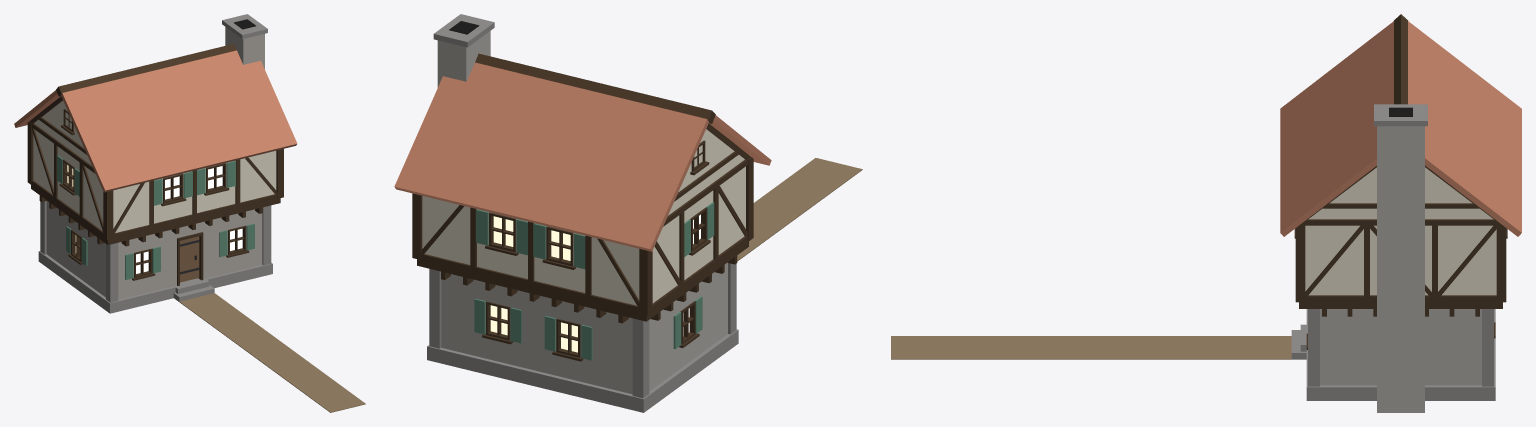
Rendered from medievalHouse.fbx.
3 views of the same model, side by side, from view 1: azimuth 30°, elevation 25°; view 2: azimuth 150°, elevation 25°; view 3: azimuth 270°, elevation 25° (orthographic). The views are drawn at different scales.
Parts seen in each view (by area): view 1: RoofSlab_S, Path, Foundation, U_Front_end, U_Front_seg0, RoofRidge, Slab_Front, G_Front_seg2, G_Left_end, G_Front_seg1, G_Left_seg0, U_Left_end (+19 smaller); view 2: RoofSlab_N, Foundation, Path, G_Back_seg0, G_Back_end, U_Back_end, U_Back_seg0, G_Back_seg1, RoofRidge, G_Left_seg0, G_Left_end, U_Left_seg0 (+26 smaller); view 3: RoofSlab_N, RoofSlab_S, Chimney, Path, G_Right_end, U_Right_end, GablePrism, Foundation, RoofRidge, ChimneyCap, T_Right_railT, Quoin_1_-1 (+6 smaller).
Boxes of the visible parts, x1=… form: RoofSlab_S: x1=61, y1=50, x2=297, y2=192; Path: x1=179, y1=293, x2=365, y2=412; Foundation: x1=38, y1=251, x2=272, y2=313; U_Front_end: x1=225, y1=151, x2=276, y2=205; U_Front_seg0: x1=113, y1=178, x2=162, y2=232; RoofRidge: x1=56, y1=44, x2=236, y2=96; Slab_Front: x1=70, y1=198, x2=280, y2=244; G_Front_seg2: x1=202, y1=217, x2=227, y2=278; G_Left_end: x1=46, y1=201, x2=72, y2=272; G_Front_seg1: x1=151, y1=229, x2=176, y2=291; G_Left_seg0: x1=82, y1=229, x2=105, y2=297; U_Left_end: x1=34, y1=130, x2=63, y2=202; RoofSlab_N: x1=394, y1=62, x2=708, y2=251; Foundation: x1=427, y1=329, x2=738, y2=412; Path: x1=737, y1=158, x2=862, y2=261; G_Back_seg0: x1=580, y1=306, x2=632, y2=394; G_Back_end: x1=441, y1=274, x2=486, y2=358; U_Back_end: x1=422, y1=196, x2=489, y2=269; U_Back_seg0: x1=573, y1=232, x2=639, y2=305; G_Back_seg1: x1=510, y1=290, x2=557, y2=375; RoofRidge: x1=475, y1=53, x2=715, y2=123; G_Left_seg0: x1=694, y1=262, x2=727, y2=358; G_Left_end: x1=649, y1=300, x2=680, y2=390; U_Left_seg0: x1=705, y1=167, x2=744, y2=264; RoofSlab_N: x1=1408, y1=21, x2=1521, y2=236; RoofSlab_S: x1=1280, y1=21, x2=1393, y2=236; Chimney: x1=1377, y1=126, x2=1424, y2=412; Path: x1=891, y1=336, x2=1291, y2=359; G_Right_end: x1=1320, y1=309, x2=1481, y2=385; U_Right_end: x1=1308, y1=225, x2=1493, y2=295; GablePrism: x1=1308, y1=167, x2=1493, y2=219; Foundation: x1=1306, y1=309, x2=1495, y2=400; RoofRidge: x1=1394, y1=14, x2=1408, y2=104; ChimneyCap: x1=1374, y1=104, x2=1427, y2=126; T_Right_railT: x1=1305, y1=219, x2=1496, y2=225; Quoin_1_-1: x1=1308, y1=309, x2=1319, y2=386.
Size of what is drawn, in the model's own units: 1015 by 1081 by 2103.
